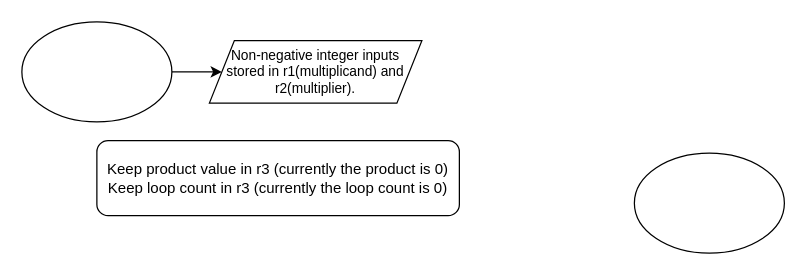
Image size: 806x275. Some labels were removed from this diagram. The centre of each missing label's shape, as x and y in pixels:
Start multiplication.s: point (96, 71)
Stop multiplication.s: point (708, 202)
